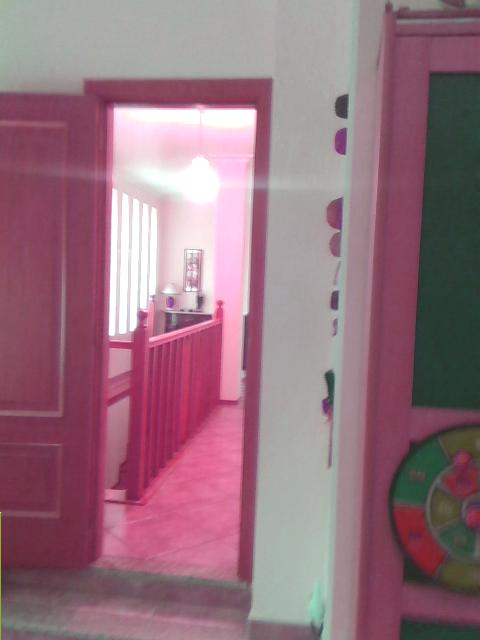open_door: (87, 88, 261, 568)
